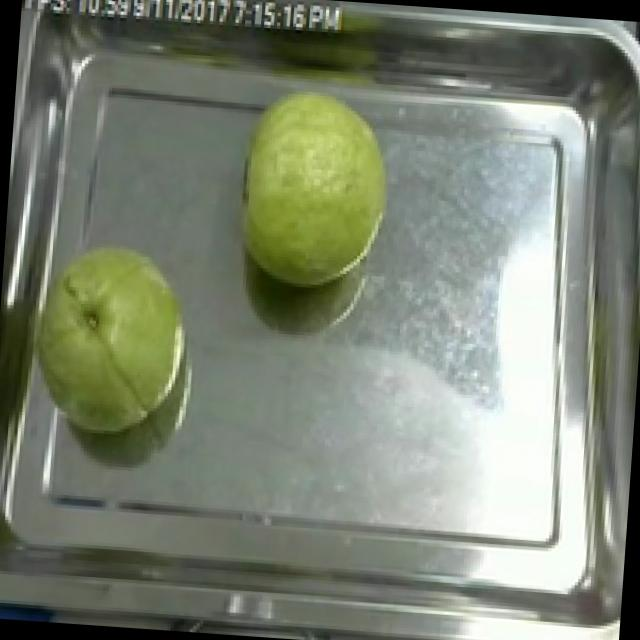Fruit: (8, 222, 204, 448), (222, 74, 404, 302)
